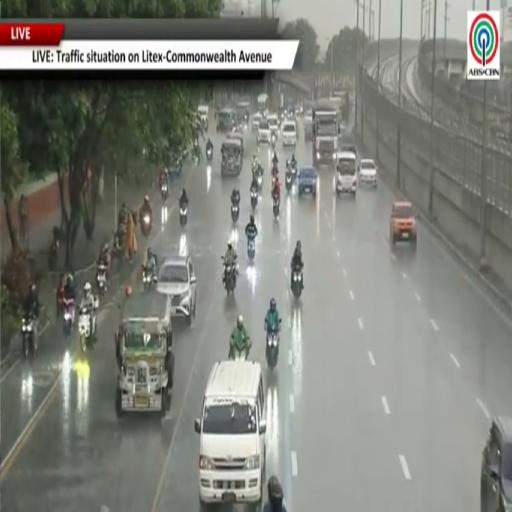car: (195, 361, 266, 511), (480, 416, 511, 511), (156, 254, 196, 325), (390, 202, 416, 247), (335, 152, 357, 196), (297, 166, 318, 197), (359, 159, 377, 186), (282, 121, 296, 147), (228, 132, 244, 154), (257, 119, 270, 143), (198, 105, 209, 130), (267, 115, 279, 137), (252, 112, 262, 132)
jeepney: (116, 291, 174, 417), (221, 139, 242, 177), (217, 108, 236, 133), (237, 100, 250, 129)
motorcycle: (22, 315, 37, 358), (78, 308, 92, 353), (266, 326, 279, 370), (63, 298, 74, 339), (224, 264, 236, 295), (48, 238, 59, 270), (96, 264, 107, 295), (291, 268, 302, 298), (143, 265, 155, 289), (141, 214, 151, 237), (228, 350, 247, 360), (193, 139, 200, 163), (248, 237, 255, 261), (180, 204, 187, 227), (284, 172, 292, 192), (231, 203, 239, 222), (161, 182, 169, 200), (251, 190, 258, 210), (290, 161, 297, 180), (273, 197, 279, 218), (257, 174, 263, 190), (206, 147, 212, 162), (271, 133, 276, 149), (252, 162, 258, 174), (272, 175, 277, 188)
truck: (312, 101, 338, 167), (332, 90, 350, 123)
